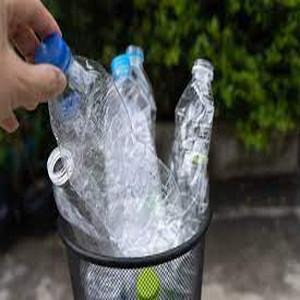Plastic: (172, 57, 216, 210)
